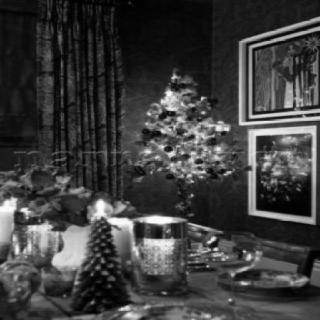Fire: (1, 198, 14, 218)
